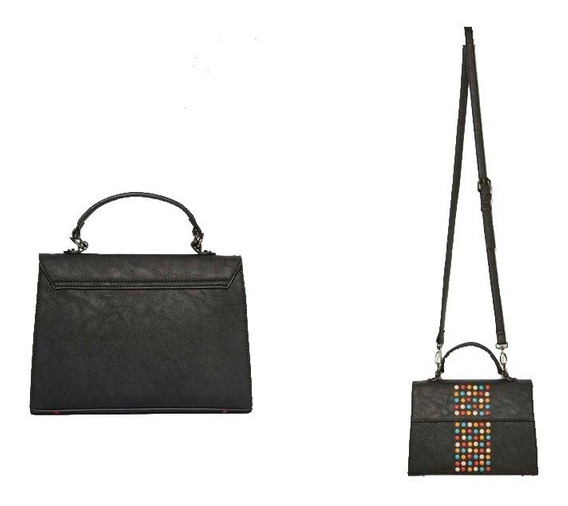cartera: (402, 25, 542, 479), (25, 188, 255, 418)
